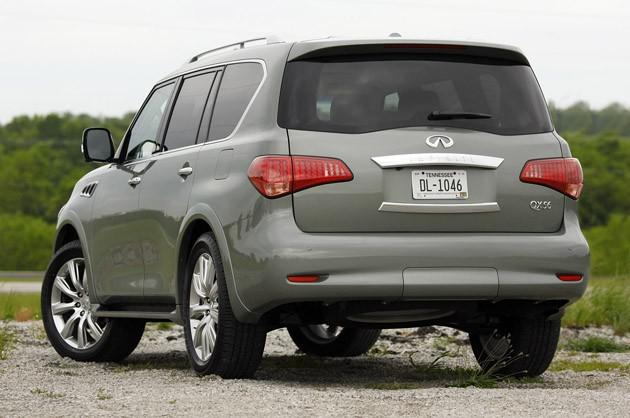Car: (36, 19, 600, 400)
